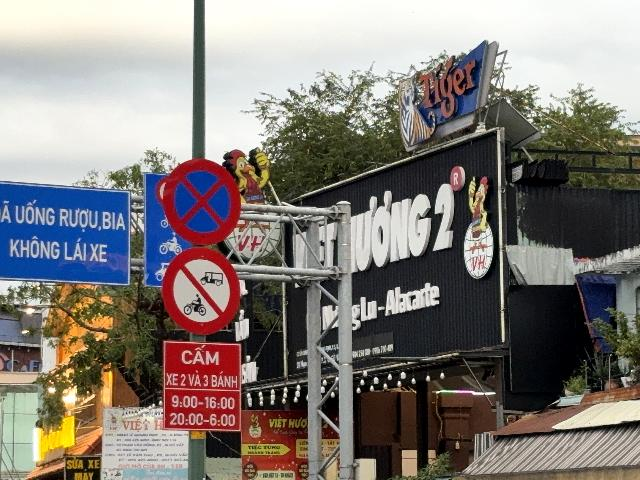cam-dung-va-do-xe: (162, 157, 242, 245)
cam-xe-2-banh-3-banh: (161, 246, 240, 335)
